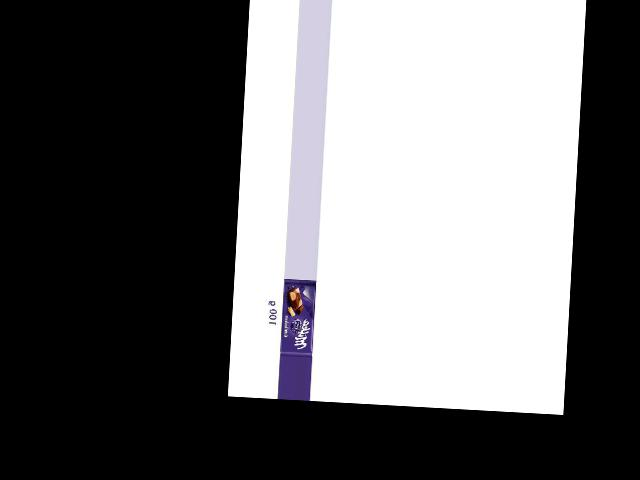chocolate: (278, 278, 316, 357)
